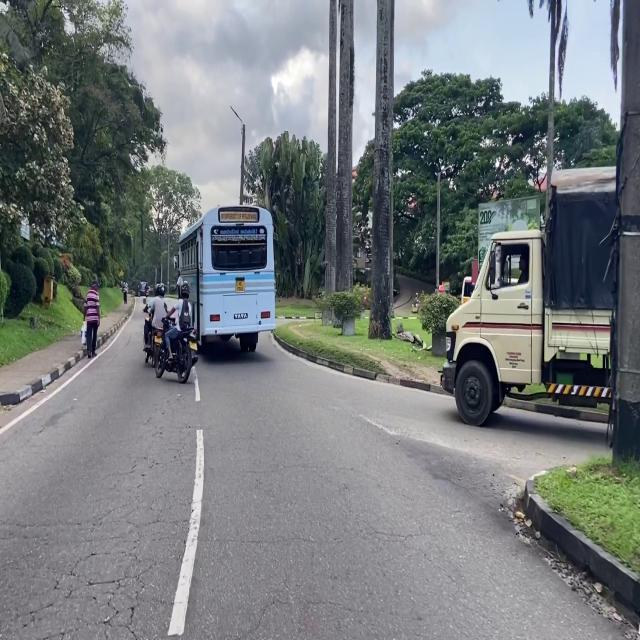bus: (176, 205, 275, 352)
motorcycle: (155, 300, 197, 383), (144, 328, 162, 366), (146, 292, 149, 297)
person: (165, 281, 190, 360), (144, 283, 167, 348), (82, 279, 100, 359), (176, 268, 183, 298), (121, 281, 128, 305), (146, 281, 149, 289)
truck: (442, 167, 616, 425)
van: (139, 281, 146, 295)
